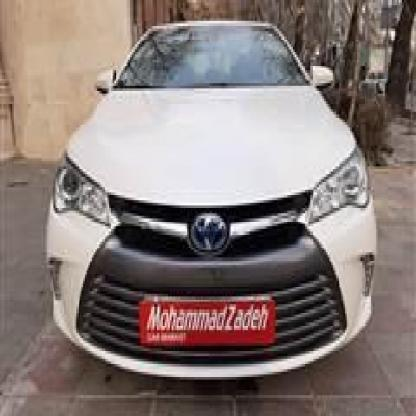Car: (45, 18, 381, 395)
